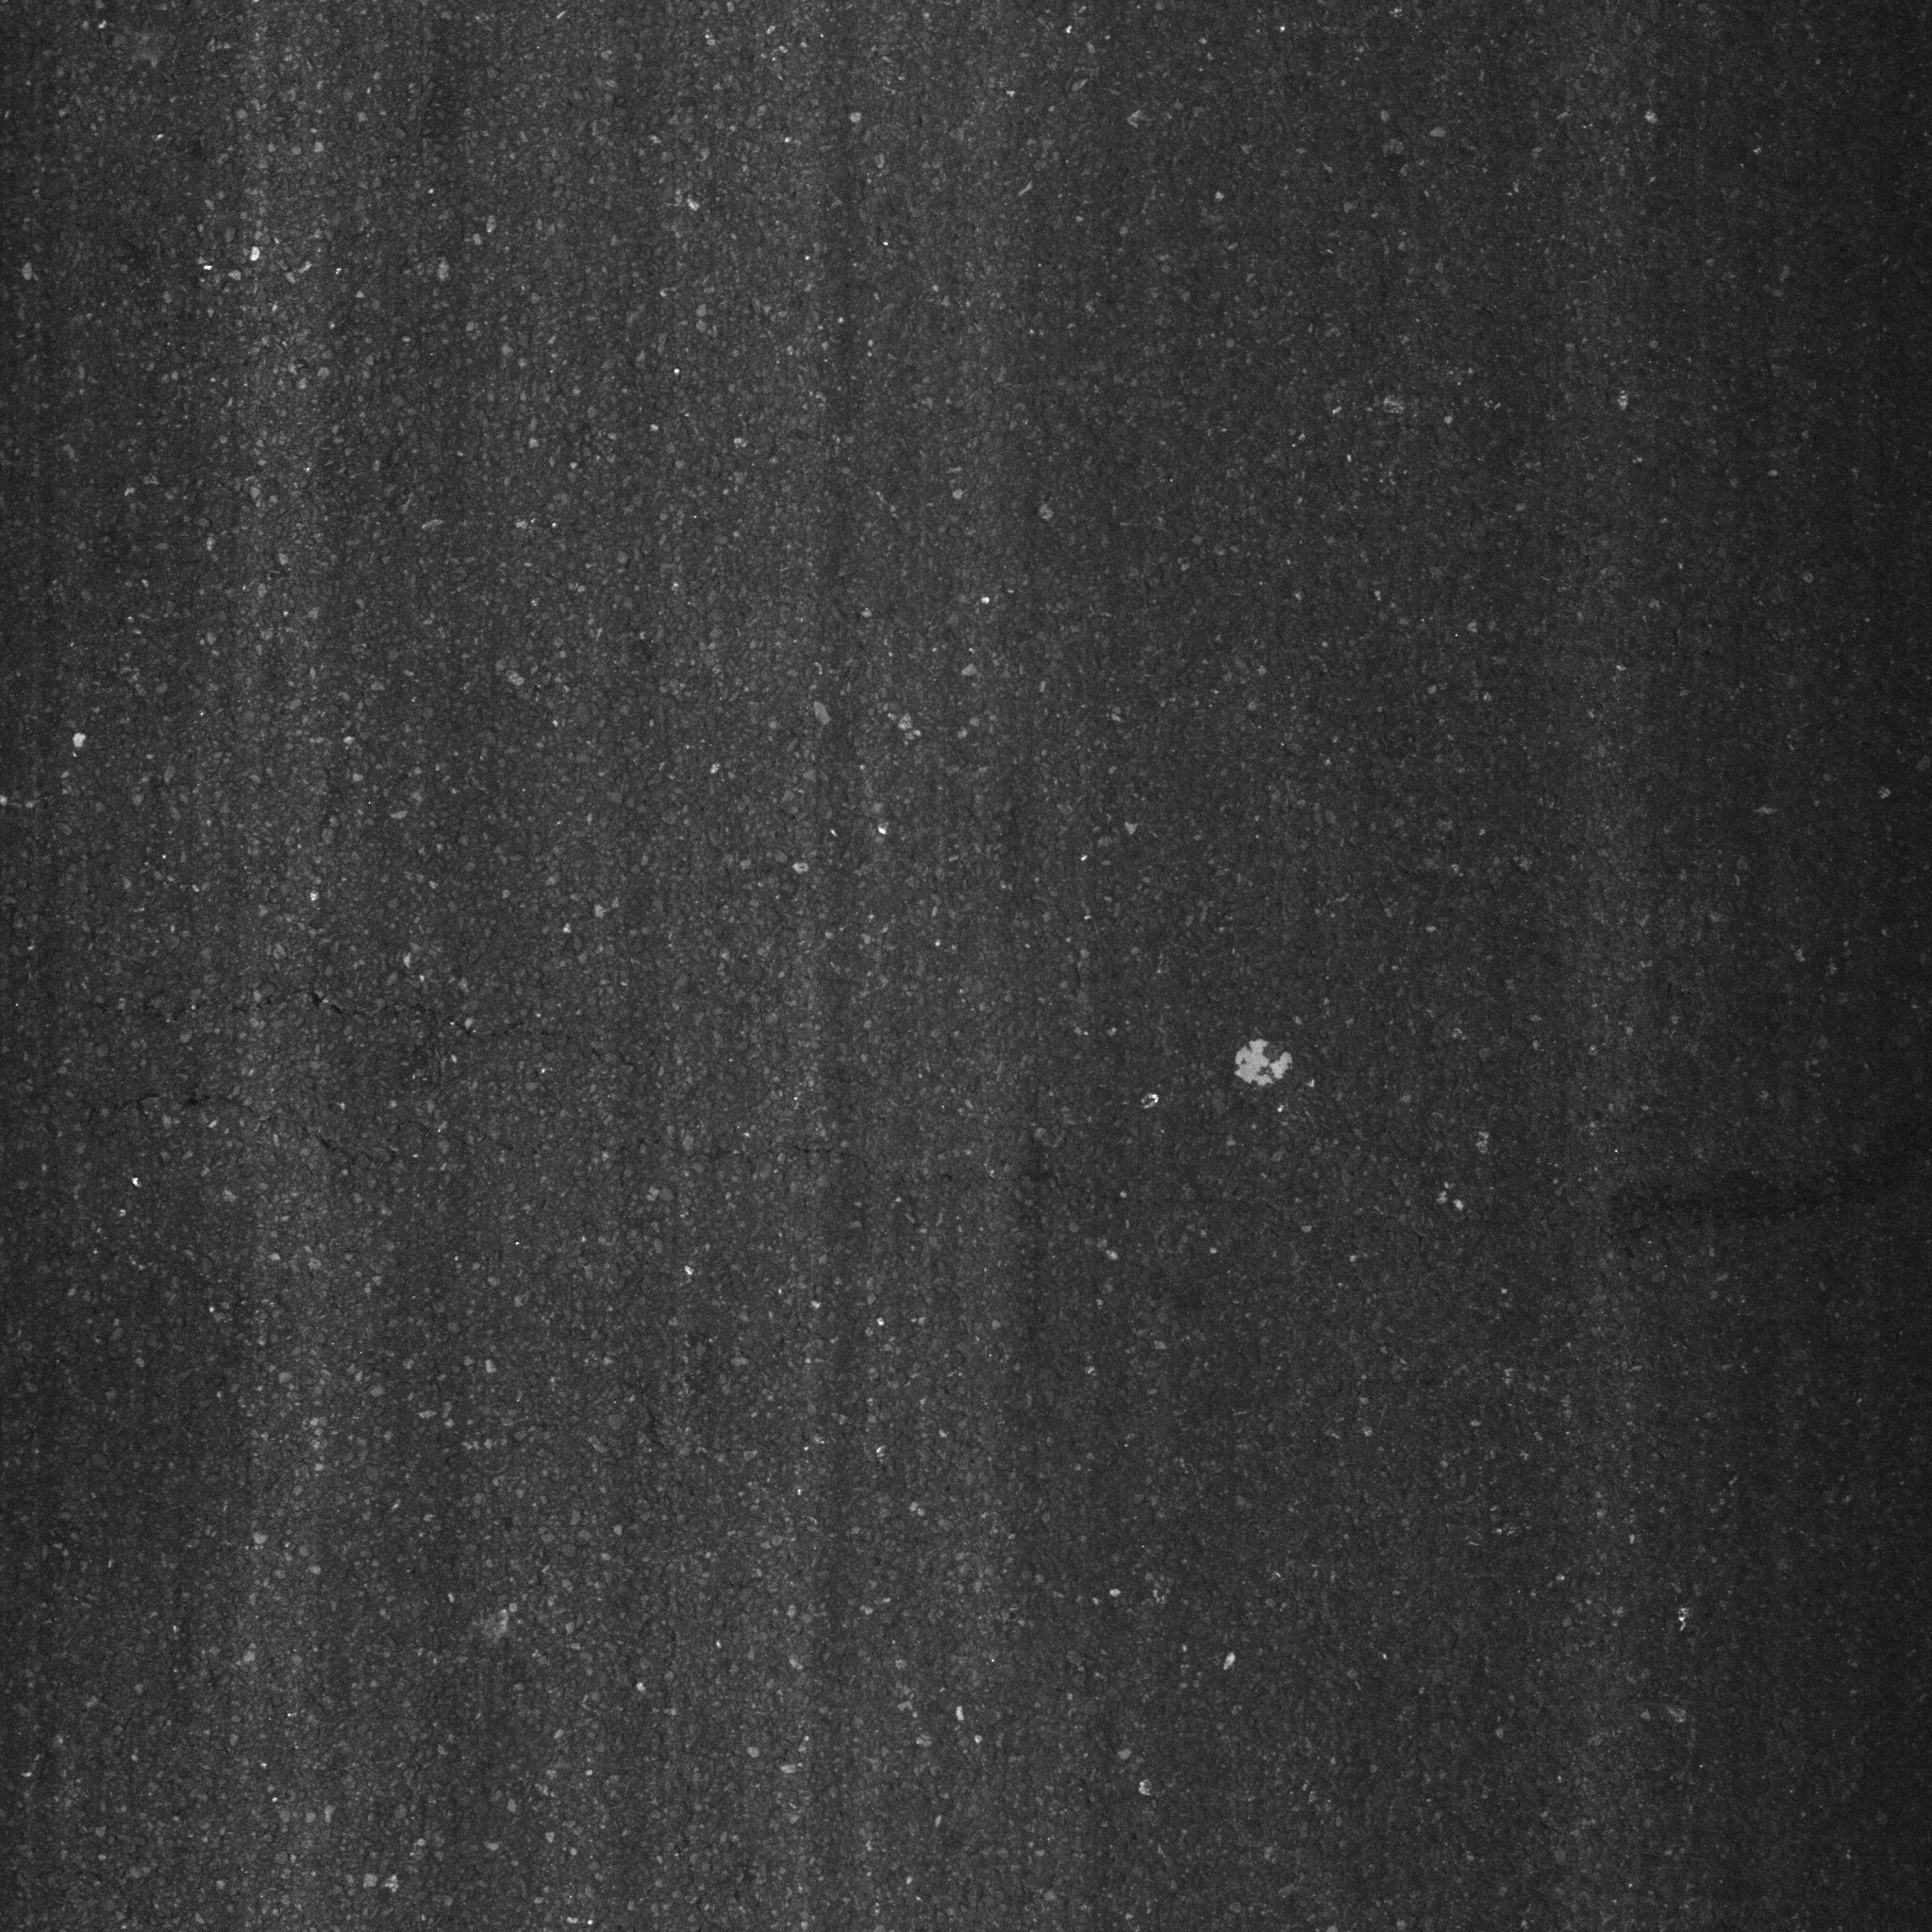transverse: (97, 961, 1408, 1274)
